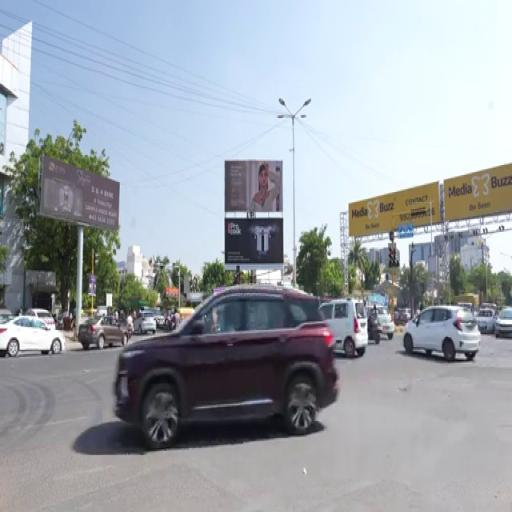Car: (114, 285, 338, 449), (404, 306, 480, 362), (320, 299, 368, 356), (0, 316, 65, 356), (78, 316, 129, 349), (376, 306, 395, 339), (366, 308, 382, 344), (27, 309, 55, 329), (134, 312, 156, 335), (495, 308, 511, 338), (476, 309, 495, 334), (0, 309, 13, 324), (156, 311, 165, 328)
